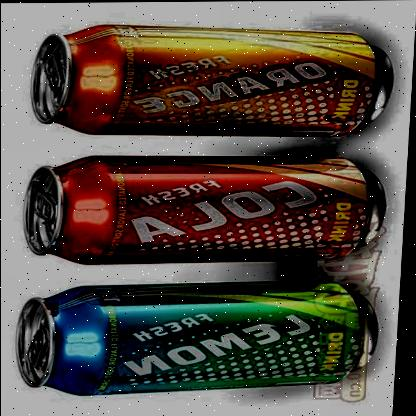Can: (20, 16, 404, 146), (12, 280, 384, 400), (16, 152, 392, 266)
